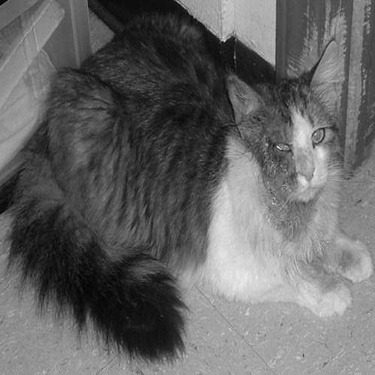cat: (8, 22, 368, 321)
